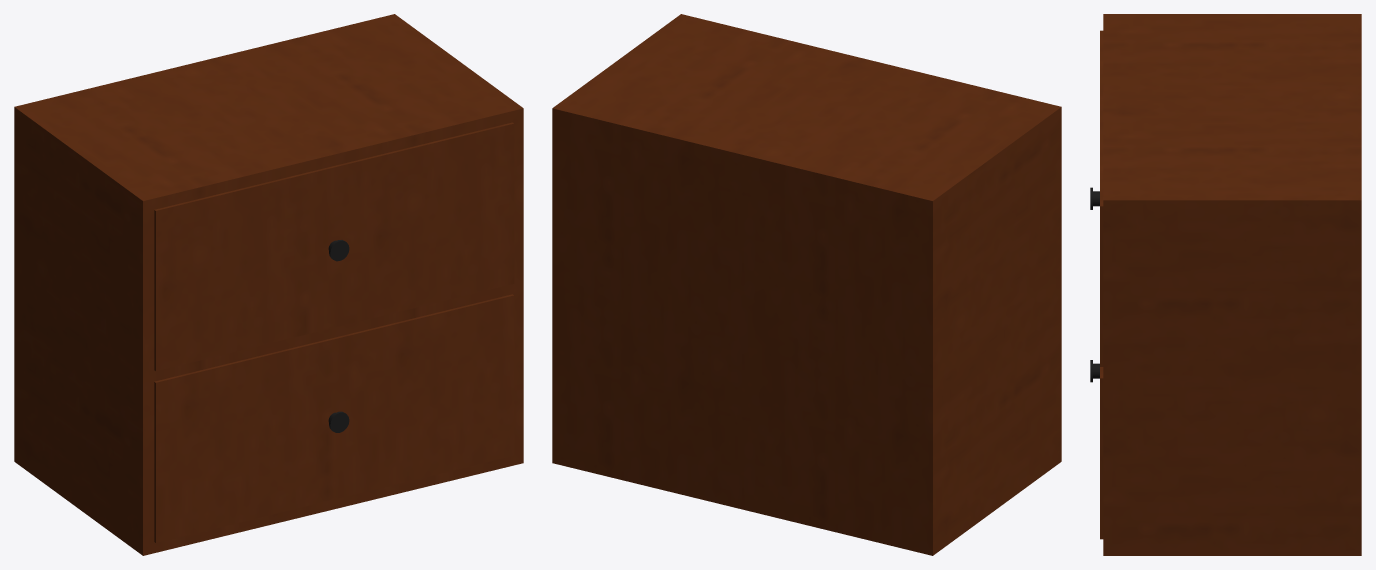
The model's file is Drawer10.fbx.
3 renders of one model, left to right at view 1: azimuth 30°, elevation 25°; view 2: azimuth 150°, elevation 25°; view 3: azimuth 270°, elevation 25°, orthographic.
Visible parts, largest first — view 1: Drawer_Body10, Drawer10_1, Drawer10_2; view 2: Drawer_Body10; view 3: Drawer_Body10, Drawer10_1, Drawer10_2.
Part boxes in pixels (x1,y1,x2,y2): Drawer_Body10: [14, 14, 523, 555]; Drawer10_1: [154, 122, 514, 370]; Drawer10_2: [154, 294, 514, 542]; Drawer_Body10: [552, 14, 1061, 555]; Drawer_Body10: [1103, 14, 1361, 555]; Drawer10_1: [1090, 30, 1103, 366]; Drawer10_2: [1090, 360, 1103, 539].
Bounding box in the file's own units: 49.9 × 44.45 × 30.75.
